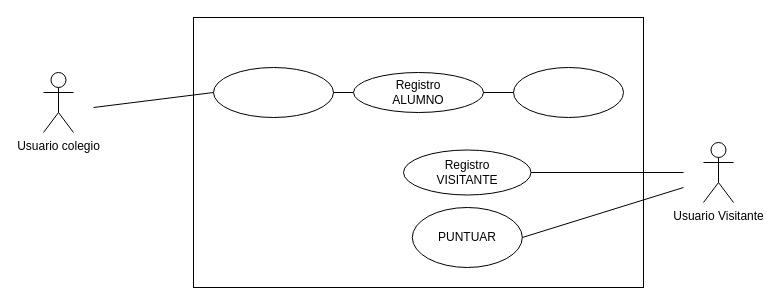
This 781x305 diagram has some shape labels left out. Here are the shapes that lost their labels. From the top down, the box of each, then its label:
(212, 66, 334, 118): Registro COLEGIO
(512, 66, 624, 118): CUADROS
